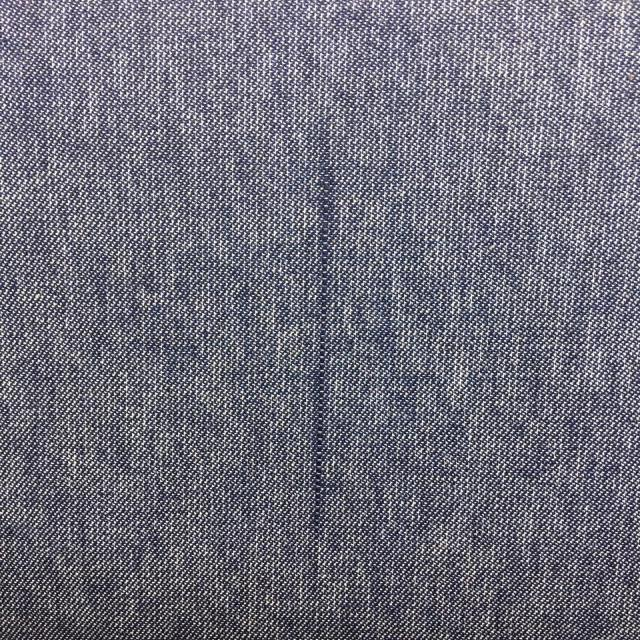Line: (305, 163, 336, 559)
